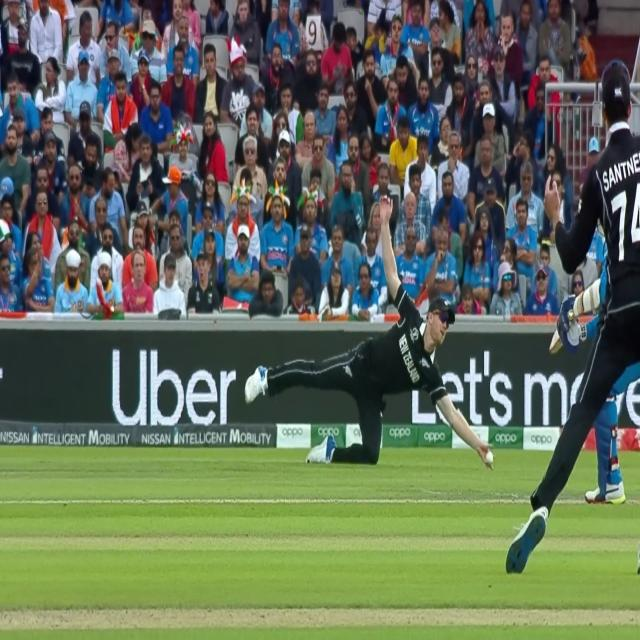ball: (485, 444, 497, 470)
